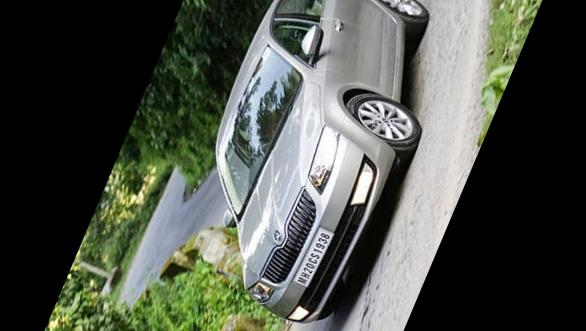plate: (277, 209, 347, 303)
